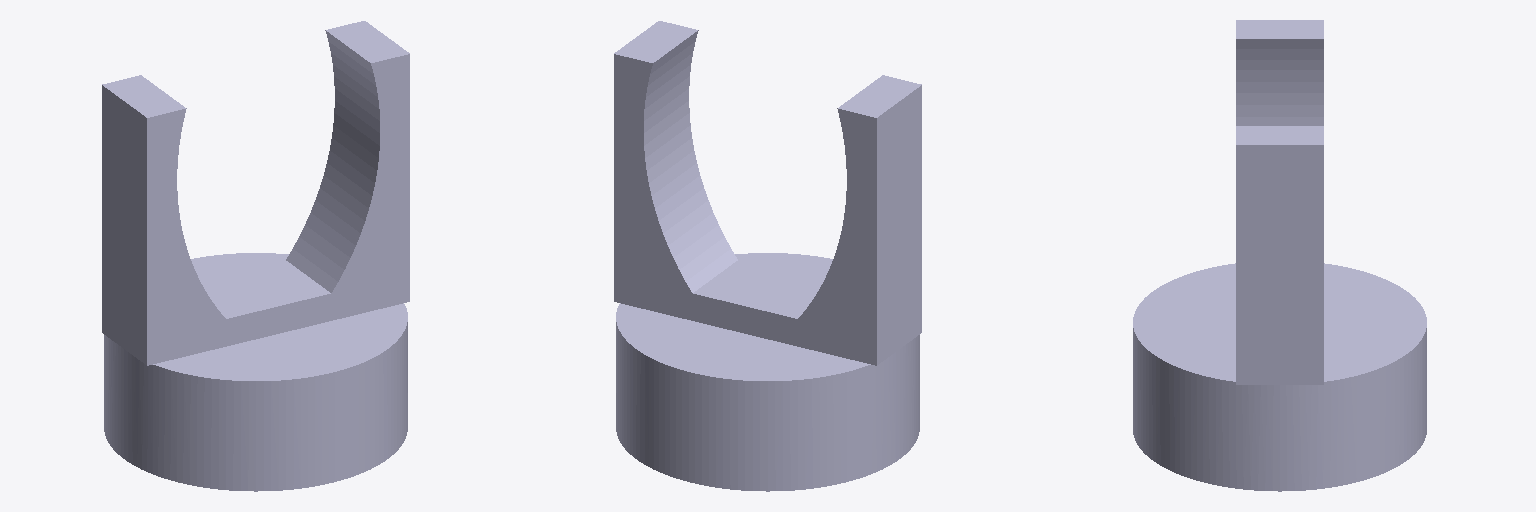
robot.urdf — my_robot_arm:
<?xml version="1.0" ?>
<robot name="my_robot_arm">
  <!--Generated by CROSS, a ROS Workbench for FreeCAD (https://github.com/galou/freecad.cross)-->
  <link name="base_link">
    <visual>
      <!--base_link_part/Body.-->
      <origin rpy="0.0 -0.0 0.0" xyz="0.0 0.0 0.0"/>
      <geometry>
        <mesh filename="package://my_robot_arm/meshes/Unnamed_base_link_body.dae"/>
      </geometry>
    </visual>
    <collision>
      <!--base_link_part/Body.-->
      <origin rpy="0.0 -0.0 0.0" xyz="0.0 0.0 0.0"/>
      <geometry>
        <mesh filename="package://my_robot_arm/meshes/Unnamed_base_link_body.dae"/>
      </geometry>
    </collision>
    <inertial>
      <mass value="0.0"/>
      <origin rpy="0.0 -0.0 0.0" xyz="0.0 0.0 0.0"/>
      <inertia ixx="0.0" ixy="0.0" ixz="0.0" iyy="0.0" iyz="0.0" izz="0.0"/>
    </inertial>
  </link>
  <link name="finger_link">
    <visual>
      <!--finger_part/Body001.-->
      <origin rpy="0.0 -0.0 0.0" xyz="0.0 0.0 0.0"/>
      <geometry>
        <mesh filename="package://my_robot_arm/meshes/Unnamed_finger_body.dae"/>
      </geometry>
    </visual>
    <collision>
      <!--finger_part/Body001.-->
      <origin rpy="0.0 -0.0 0.0" xyz="0.0 0.0 0.0"/>
      <geometry>
        <mesh filename="package://my_robot_arm/meshes/Unnamed_finger_body.dae"/>
      </geometry>
    </collision>
    <inertial>
      <mass value="0.0"/>
      <origin rpy="0.0 -0.0 0.0" xyz="0.0 0.0 0.0"/>
      <inertia ixx="0.0" ixy="0.0" ixz="0.0" iyy="0.0" iyz="0.0" izz="0.0"/>
    </inertial>
  </link>
  <joint name="finger_joint" type="prismatic">
    <parent link="base_link"/>
    <child link="finger_link"/>
    <origin rpy="0.0 -0.0 0.0" xyz="0.0 0.0 0.0"/>
    <axis xyz="1 0 0"/>
    <limit effort="100.0" lower="0.00" upper="0.037" velocity="1"/>
  </joint>
</robot>

--- What the picture shows (computed from the rendered views, not written in the file) ---
The picture shows the robot from 3 angles, left to right: view 1: azimuth 30°, elevation 25°; view 2: azimuth 150°, elevation 25°; view 3: azimuth 270°, elevation 25°; orthographic projection.
Robot: my_robot_arm — 2 links, 1 joints (1 prismatic); root link base_link; default pose: all joints at 0.
Links seen in each view (by area): view 1: base_link, finger_link; view 2: base_link, finger_link; view 3: base_link, finger_link.
Link boxes in pixels (x1,y1,x2,y2): base_link: (102,21,409,491); finger_link: (102,75,225,337); base_link: (614,21,921,491); finger_link: (798,75,921,337); base_link: (1133,126,1426,491); finger_link: (1236,20,1323,125).
Bounding box of the posed robot: 0.1 × 0.1 × 0.13 m (x, y, z).
Meshes: 2 distinct files referenced, 2 mesh visuals loaded (2 Collada DAE).